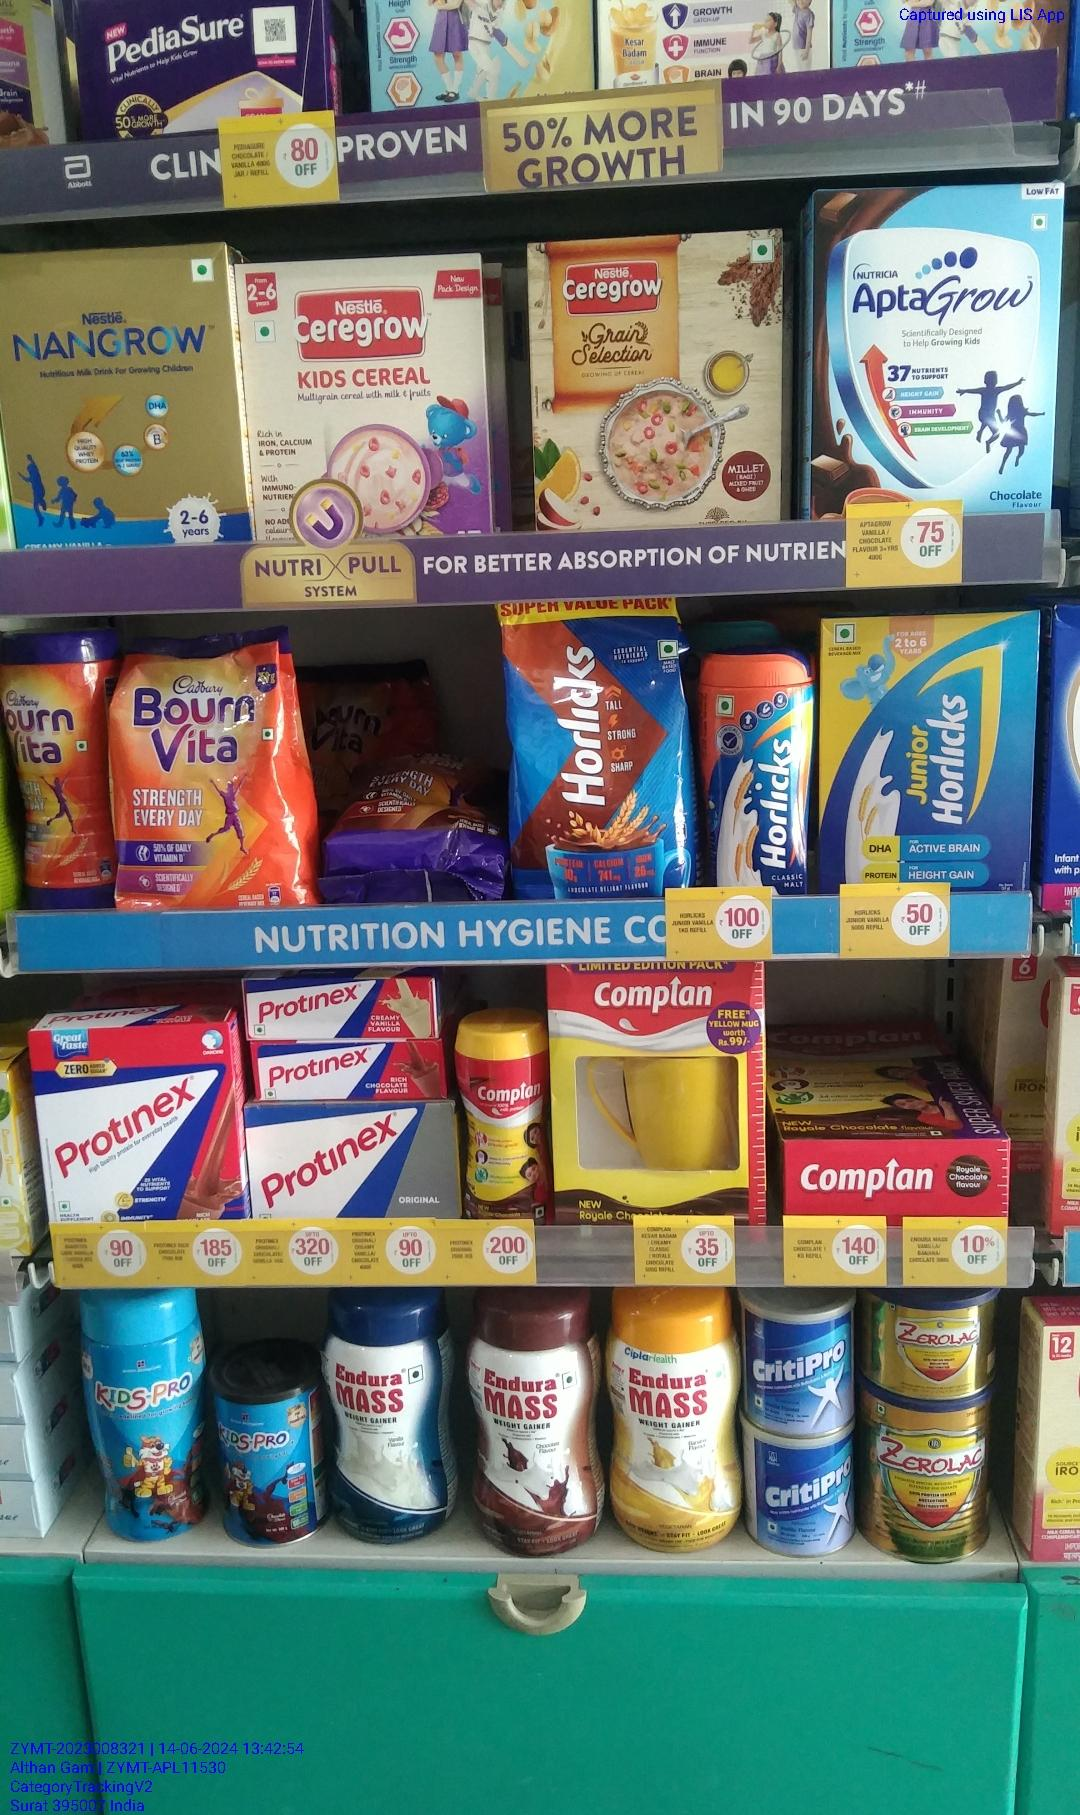BOURN_VITA_500_G_JAR: (4, 629, 100, 904)
BOURN_VITA_750_G_POUCH: (108, 629, 298, 911)
COMPLAN_CHOCOLATE_500_GMS_JAR: (459, 1024, 548, 1213)
HORLICK_CHOCOLATE_750_G_POUCH: (512, 605, 694, 891)
HORLICK_CLASSIC_MALT_500_G_JAR: (699, 656, 807, 884)
